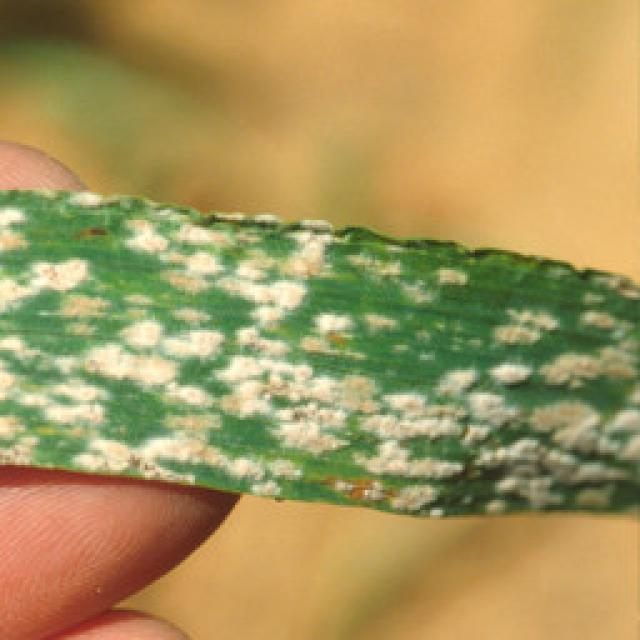wheat-powdery-mildew: (0, 188, 640, 522)
